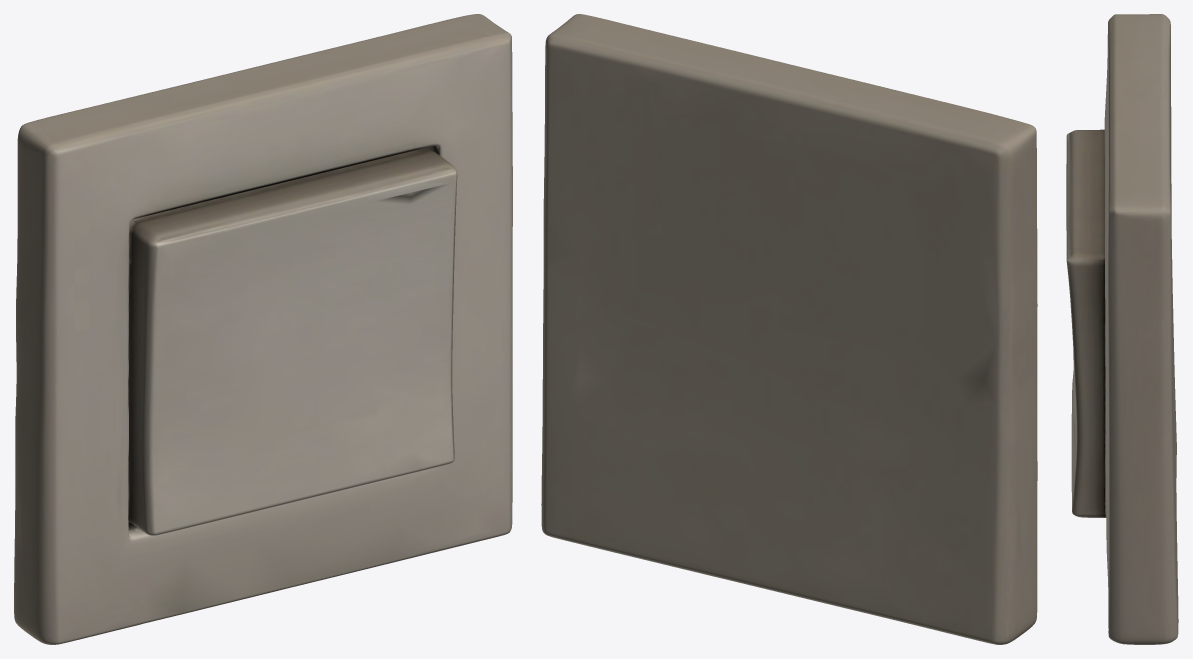
3 renders of one model, left to right at view 1: azimuth 30°, elevation 25°; view 2: azimuth 150°, elevation 25°; view 3: azimuth 270°, elevation 25°, orthographic. The views are drawn at different scales.
Parts seen in each view (by area): view 1: node_0; view 2: node_0; view 3: node_0.
Part boxes in pixels (box(x1,y1,x2,y2)): node_0: box(14, 14, 512, 644); node_0: box(541, 14, 1037, 644); node_0: box(1066, 14, 1178, 644).
Size of the model in its own units: 0.8493 by 0.863 by 0.1996.
Materials: 1 (1 with a texture image).
